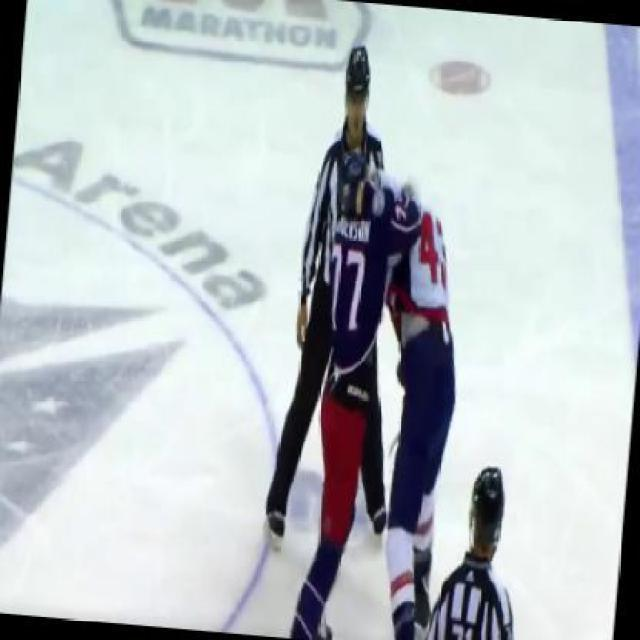fight: (294, 143, 480, 639)
